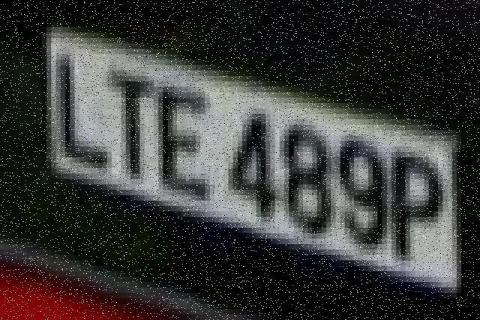LicensePlate: (21, 6, 464, 312)
